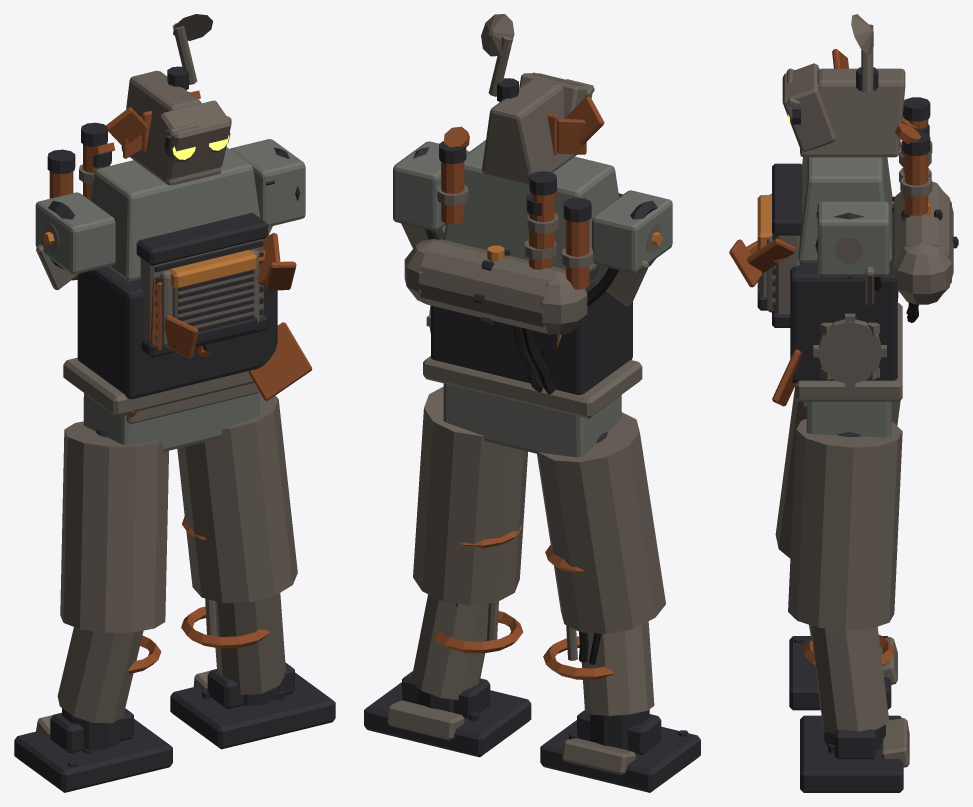
Rendered from ch_courier.glb.
3 views of the same model, side by side, from view 1: azimuth 30°, elevation 25°; view 2: azimuth 150°, elevation 25°; view 3: azimuth 270°, elevation 25° (orthographic).
Visible parts, largest first — view 1: ch_courier, limb_leg_l, limb_leg_r; view 2: ch_courier, limb_leg_l, limb_leg_r; view 3: ch_courier, limb_leg_r, limb_leg_l.
Part boxes in pixels (bbox=[...]): ch_courier: bbox=[35, 14, 312, 451]; limb_leg_l: bbox=[14, 421, 172, 792]; limb_leg_r: bbox=[170, 392, 335, 749]; ch_courier: bbox=[393, 14, 672, 457]; limb_leg_l: bbox=[537, 412, 700, 792]; limb_leg_r: bbox=[364, 386, 531, 757]; ch_courier: bbox=[729, 14, 958, 437]; limb_leg_r: bbox=[788, 419, 909, 792]; limb_leg_l: bbox=[775, 386, 900, 710].
Bounding box in the file's own units: 0.3345 × 0.8198 × 0.2362.
